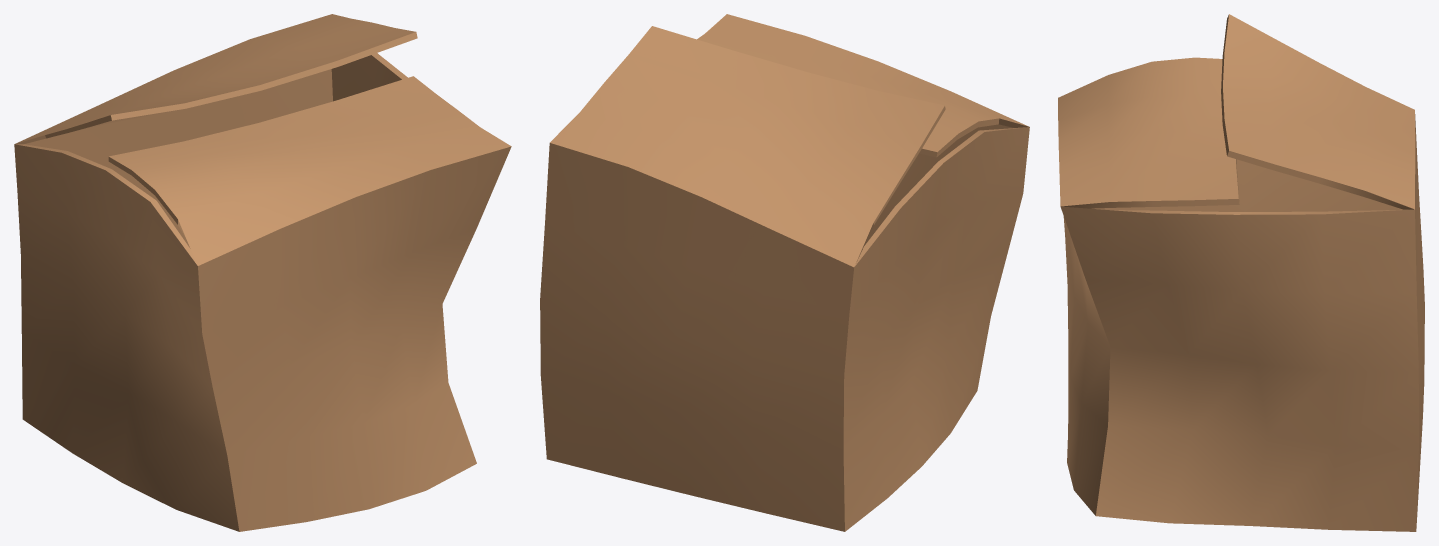
File: BoiteAbimé.fbx
3 renders of one model, left to right at view 1: azimuth 30°, elevation 25°; view 2: azimuth 150°, elevation 25°; view 3: azimuth 270°, elevation 25°, orthographic. The views are drawn at different scales.
Visible parts, largest first — view 1: BoiteEndommagé; view 2: BoiteEndommagé; view 3: BoiteEndommagé.
Part boxes in pixels (x1=…): BoiteEndommagé: x1=14, y1=14, x2=511, y2=531; BoiteEndommagé: x1=540, y1=14, x2=1029, y2=531; BoiteEndommagé: x1=1058, y1=14, x2=1424, y2=531.
Size of the model in its own units: 0.5507 by 0.6203 by 0.5505.
